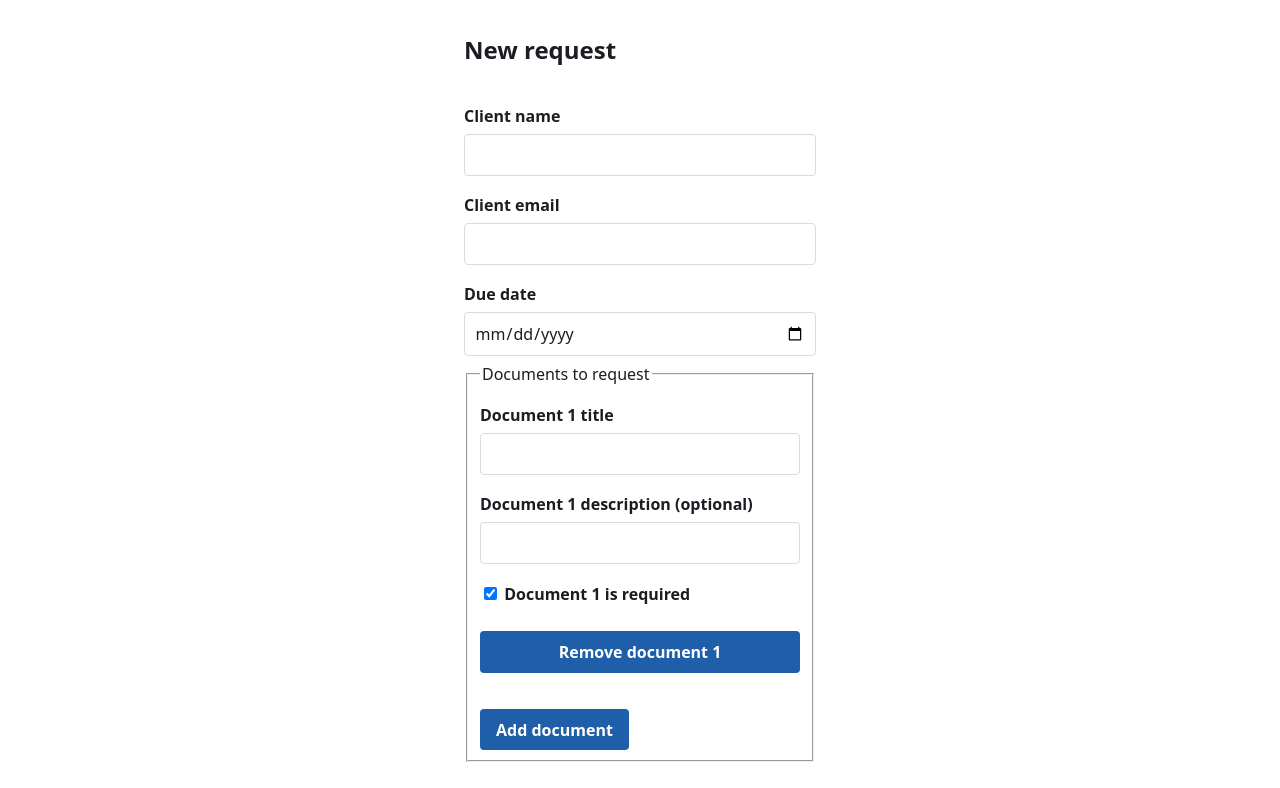
Test: CreateRequestPage › creates a request and shows it in the list (S9.5)
Type "Jane Client" into the field labelled "Client name".
click(640, 155); type("Jane Client")  # box [464, 134, 816, 176]
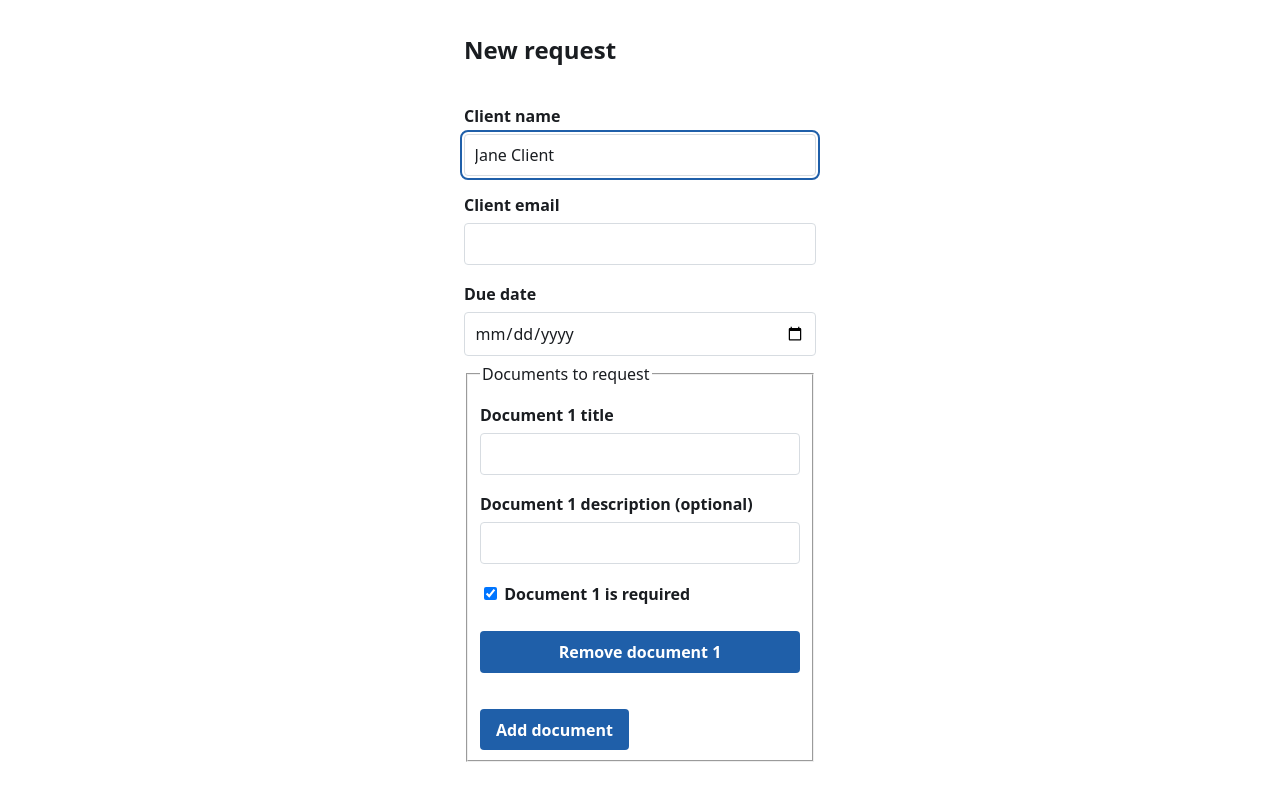
Type "jane@example.com" into the field labelled "Client email".
click(640, 244); type("jane@example.com")  # box [464, 223, 816, 265]
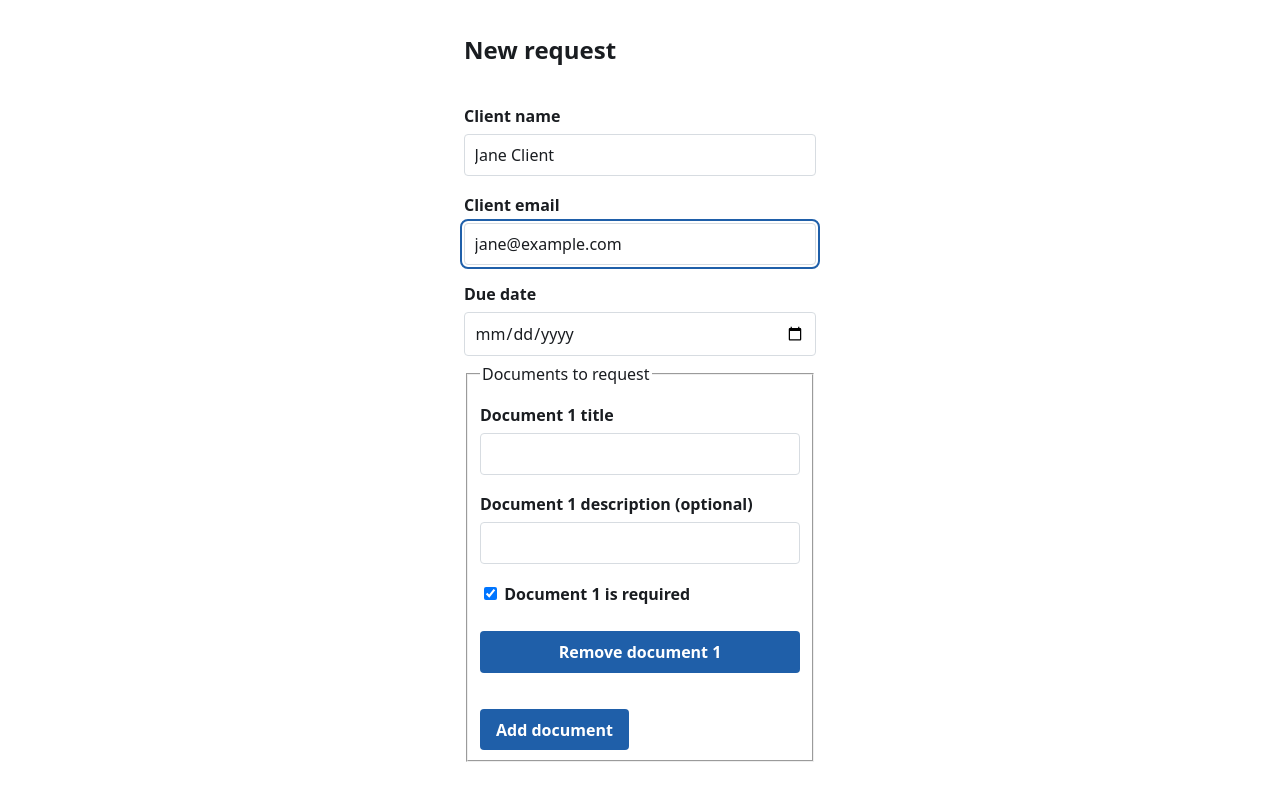
Type "2030-04-01" into the date field labelled "Due date".
click(640, 334); type("2030-04-01")  # box [464, 312, 816, 356]
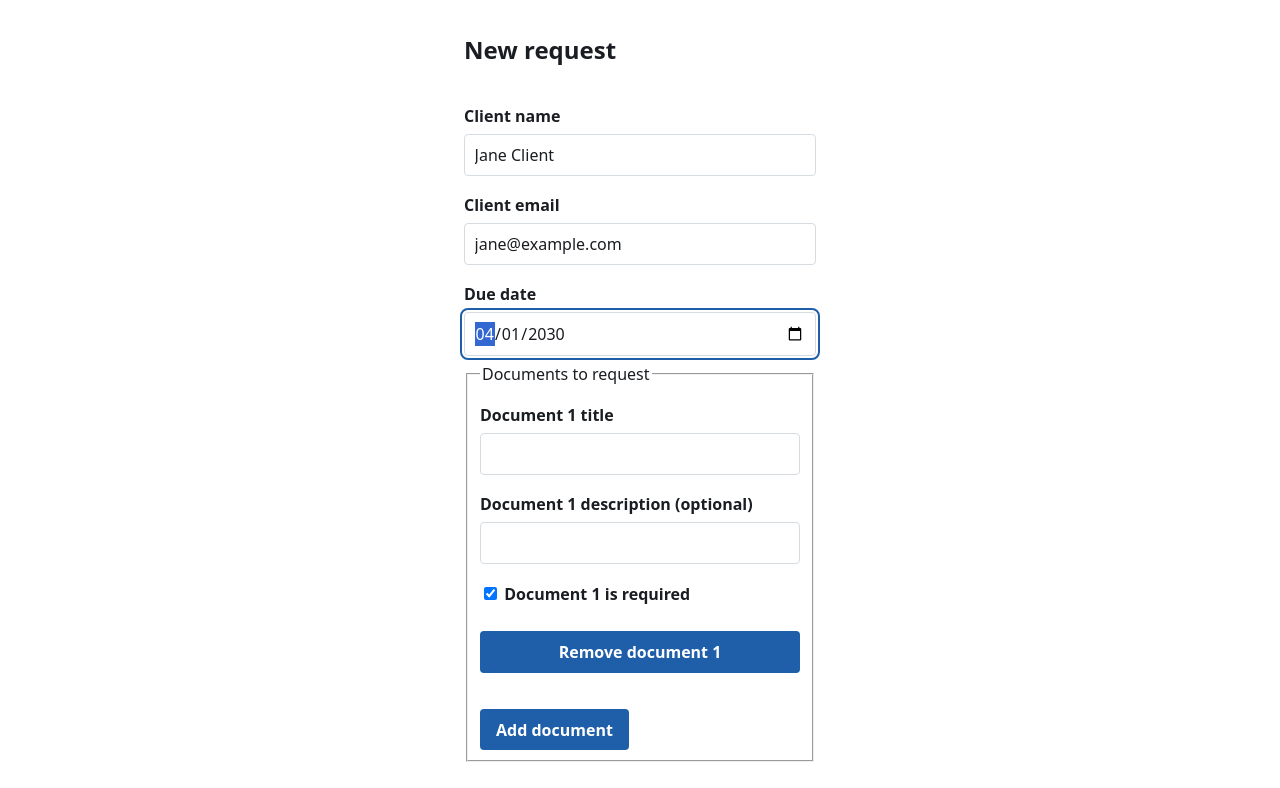
Type "Passport" into the field labelled "Document 1 title".
click(640, 454); type("Passport")  # box [480, 433, 800, 475]
(page scrolled)
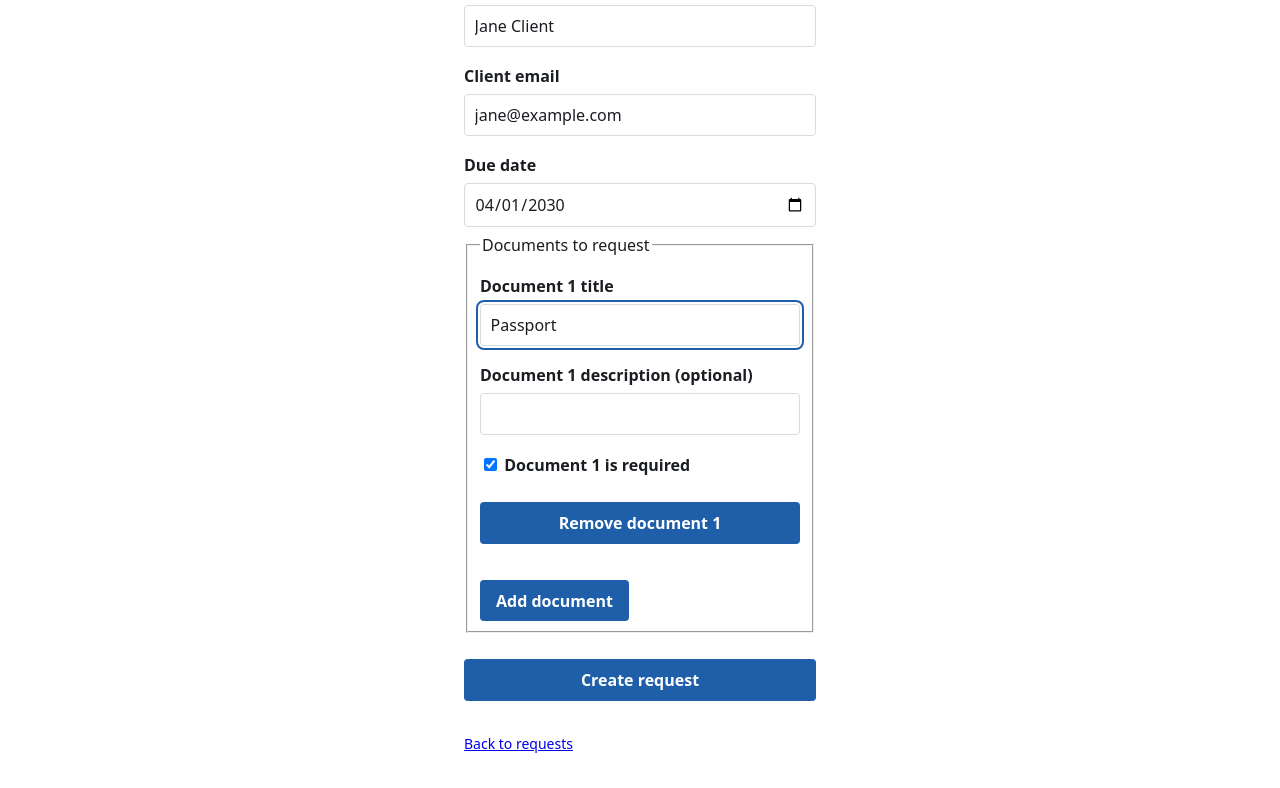
Click the button "Create request".
click(640, 680)  # box [464, 659, 816, 700]
(page scrolled)
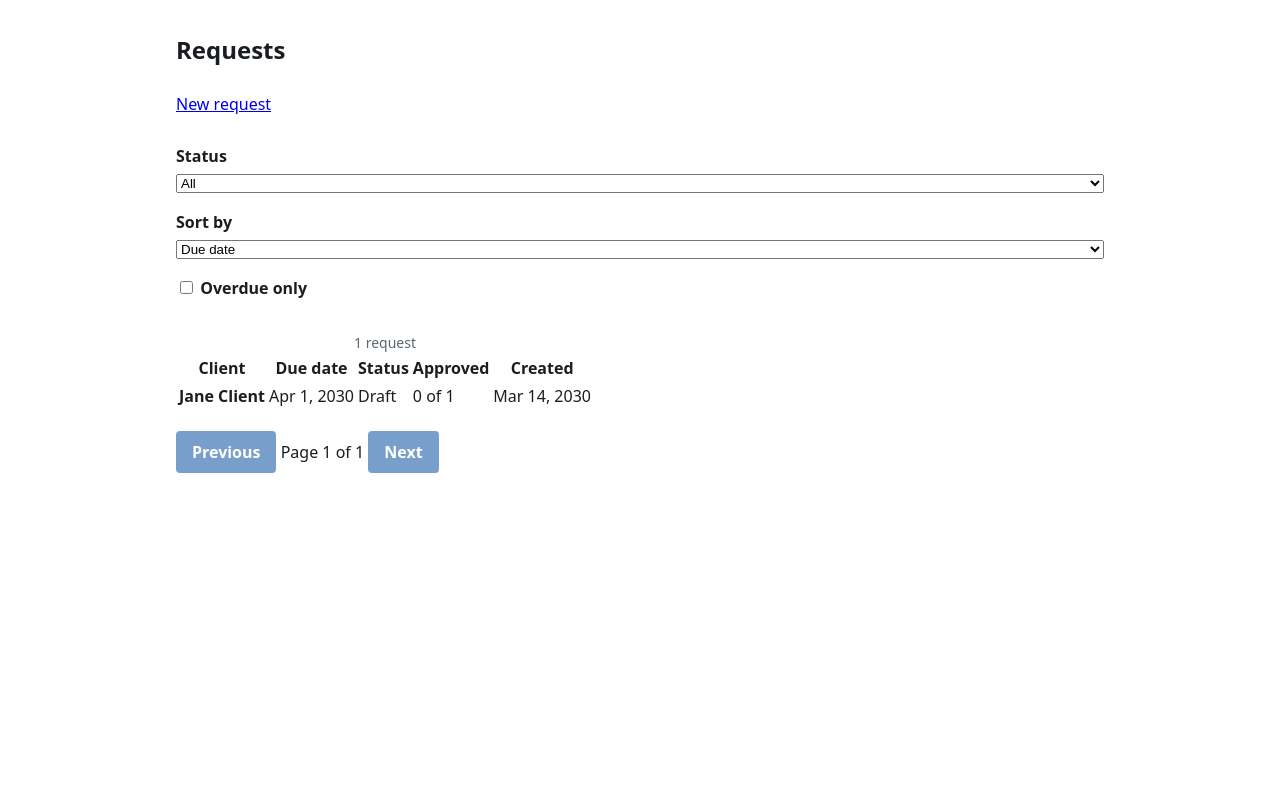
Result: the column heading "Jane Client" is shown at [178, 383, 266, 409]
